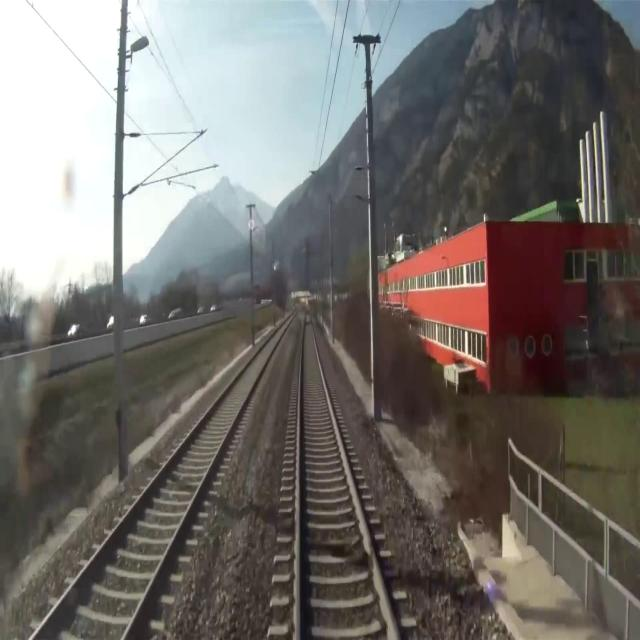rail-track: (35, 312, 294, 639), (299, 316, 395, 639)
